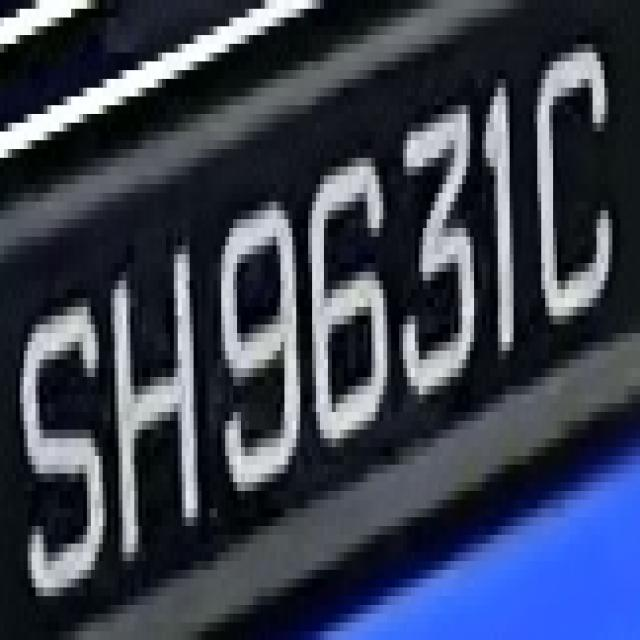1: (474, 26, 533, 412)
3: (387, 79, 470, 438)
6: (300, 114, 387, 500)
9: (210, 184, 308, 526)
C: (538, 44, 620, 351)
H: (110, 219, 206, 570)
S: (8, 280, 111, 605)
